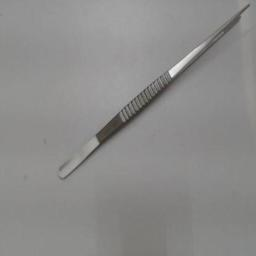DeBakey Dissector: (55, 2, 253, 186)
